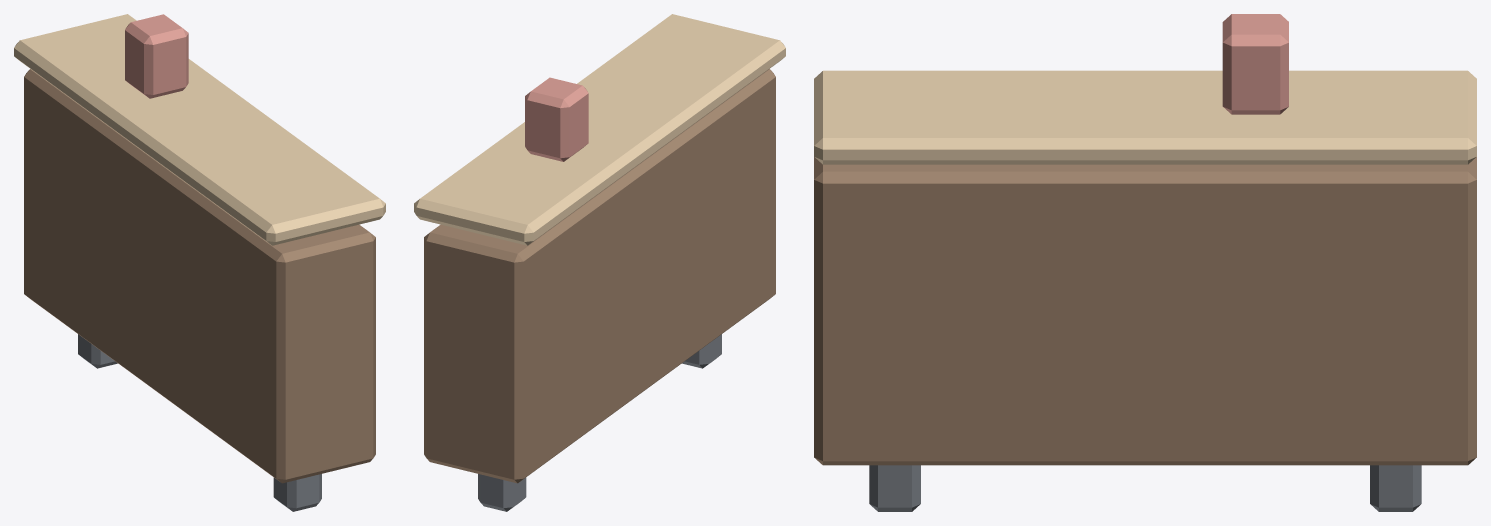
File: Console_1.glb
3 renders of one model, left to right at view 1: azimuth 30°, elevation 25°; view 2: azimuth 150°, elevation 25°; view 3: azimuth 270°, elevation 25°, orthographic. The views are drawn at different scales.
Parts seen in each view (by area): view 1: Sofa_Console_1_Body; view 2: Sofa_Console_1_Body; view 3: Sofa_Console_1_Body.
Part boxes in pixels (<box>): Sofa_Console_1_Body: <box>14,14,385,511</box>; Sofa_Console_1_Body: <box>414,14,785,511</box>; Sofa_Console_1_Body: <box>814,14,1476,511</box>.
Bounding box in the file's own units: 0.24 × 0.72 × 0.9.
